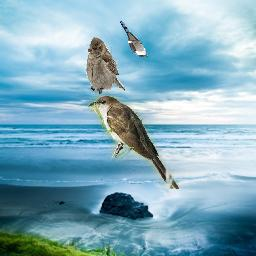Cuckoo: (89, 95, 180, 189), (120, 21, 149, 58)
Sparrow: (87, 38, 126, 99)
